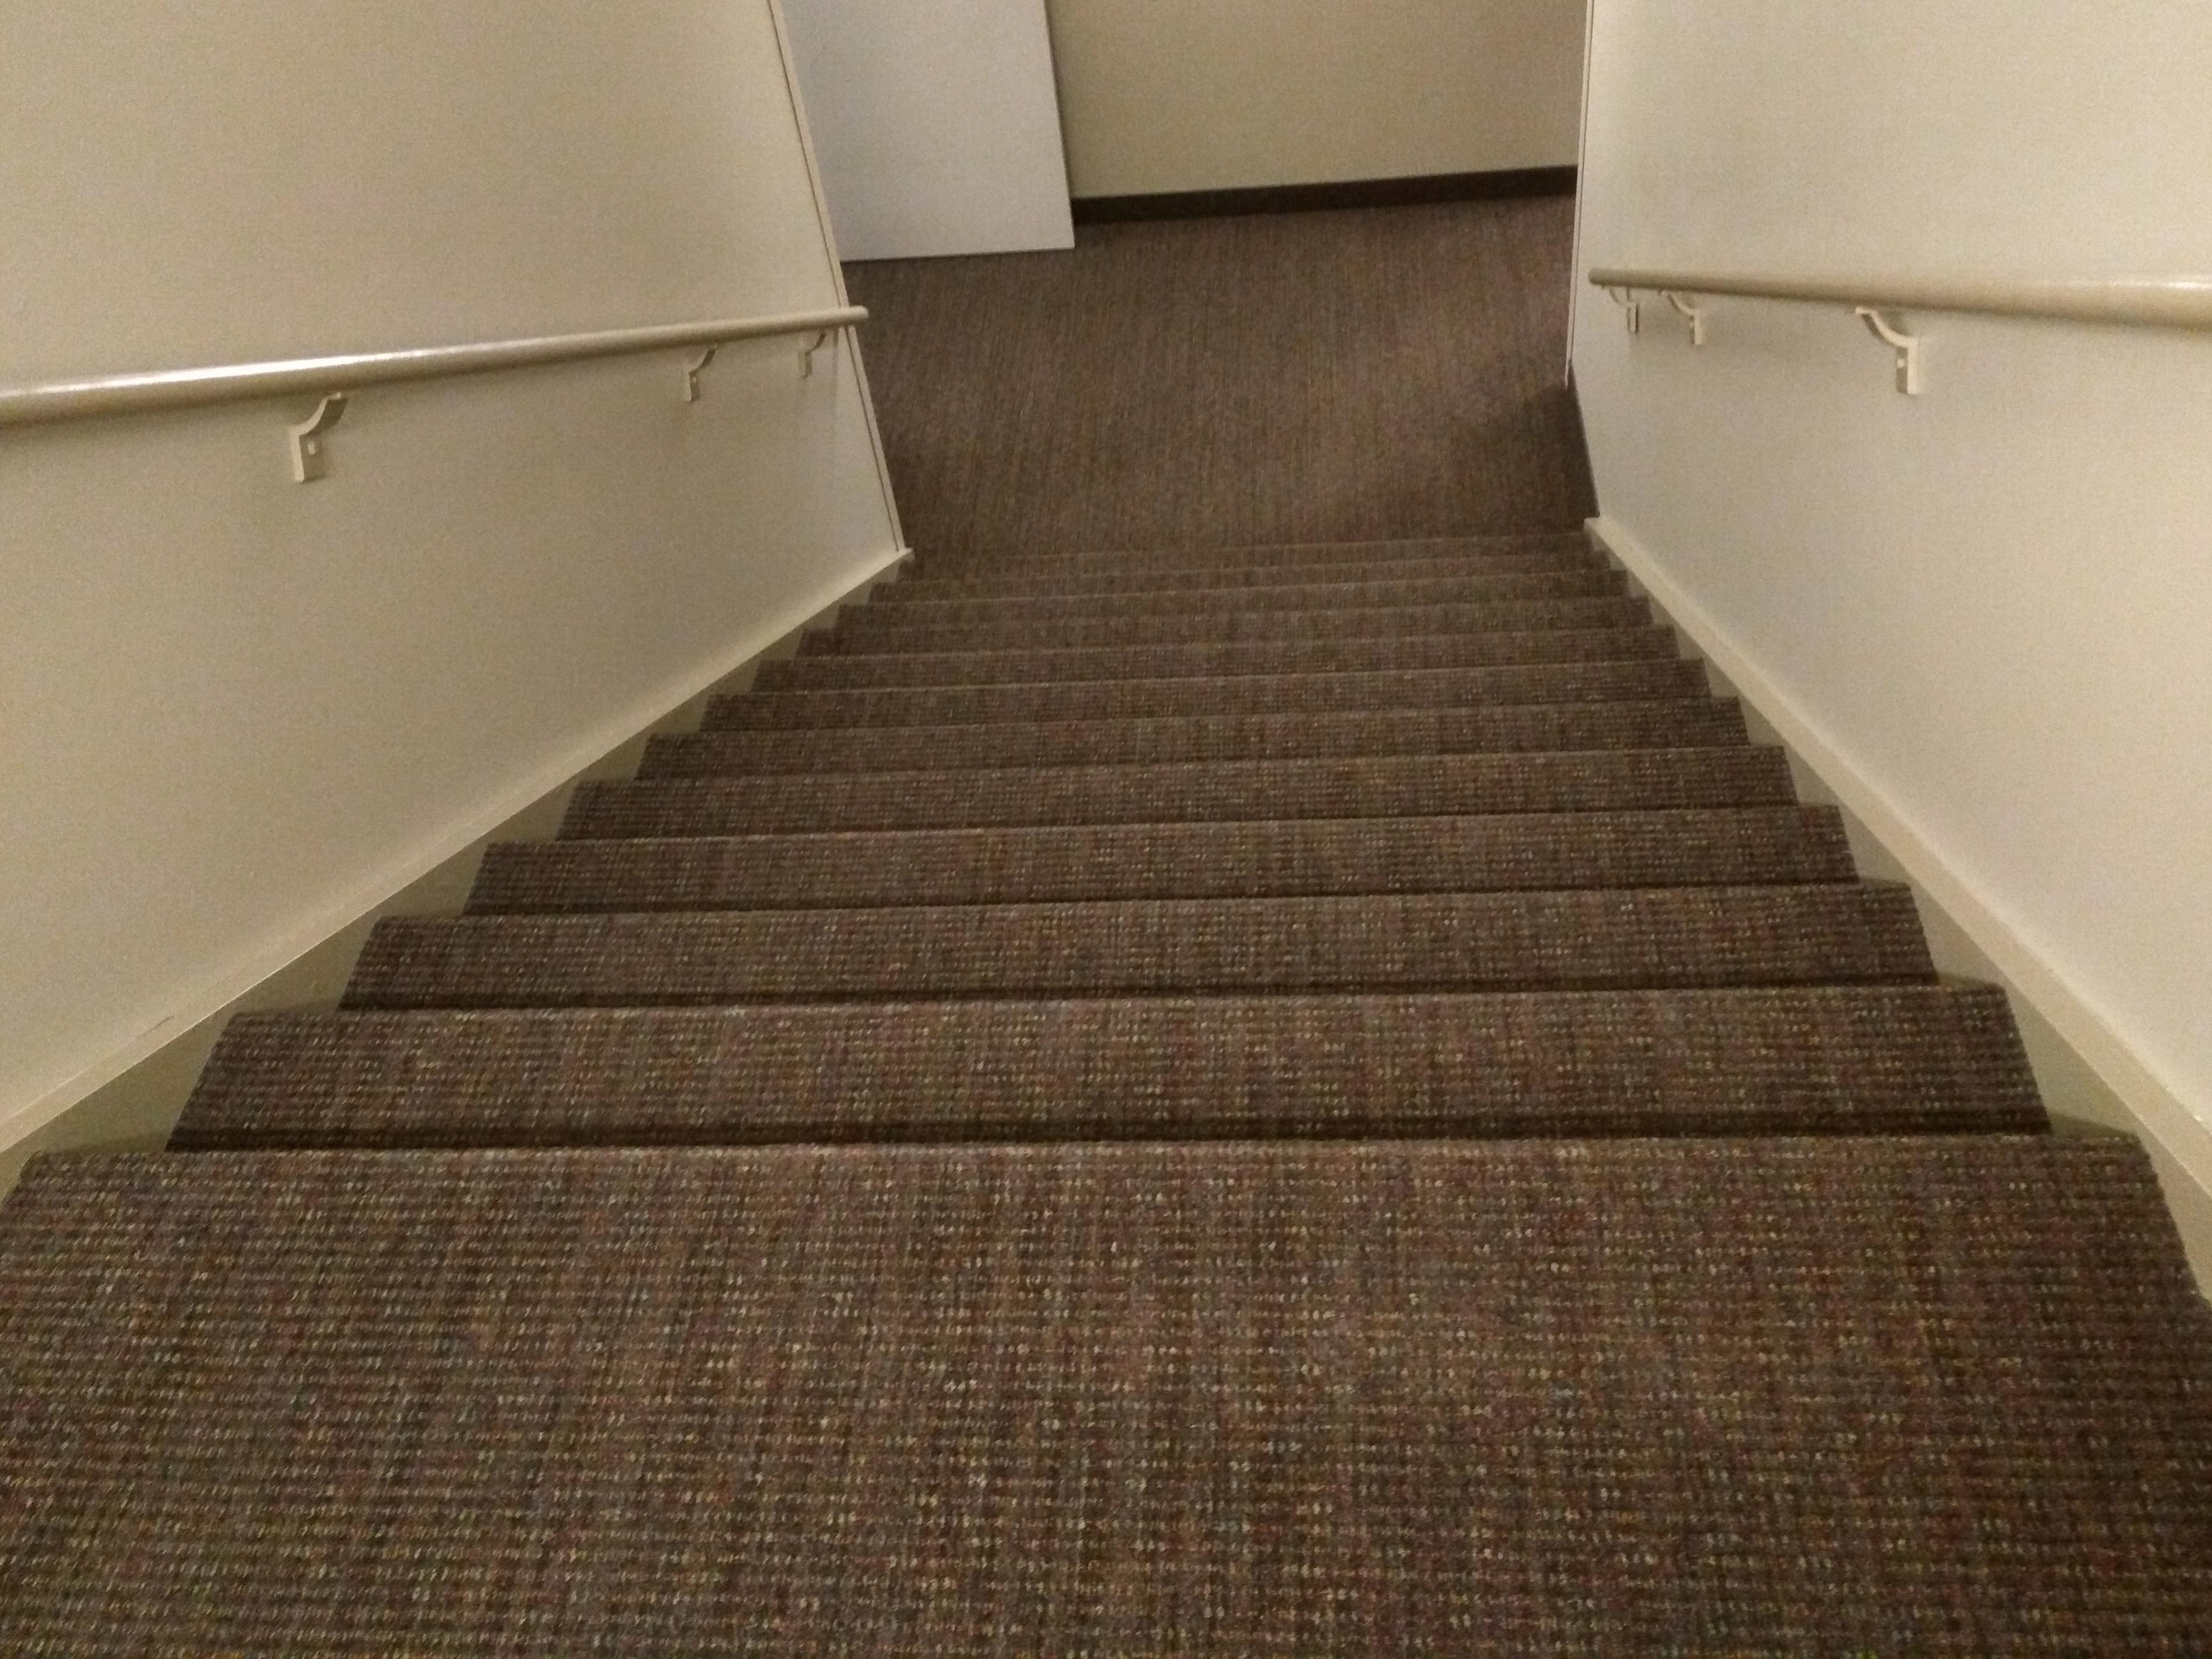stairs_down: (45, 498, 2151, 1201)
